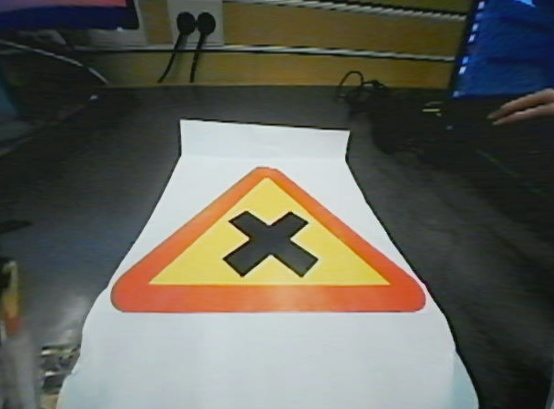junction: (116, 158, 428, 315)
